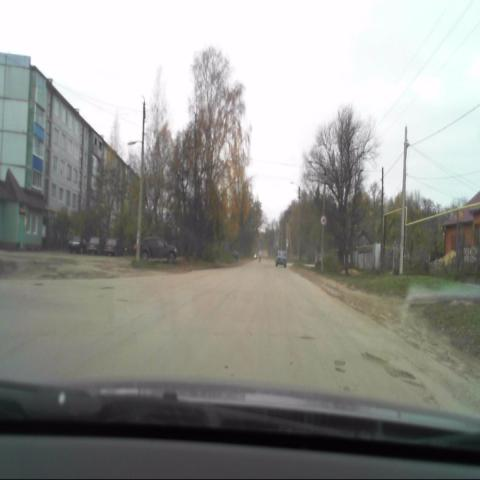3_24: (320, 214, 328, 227)
